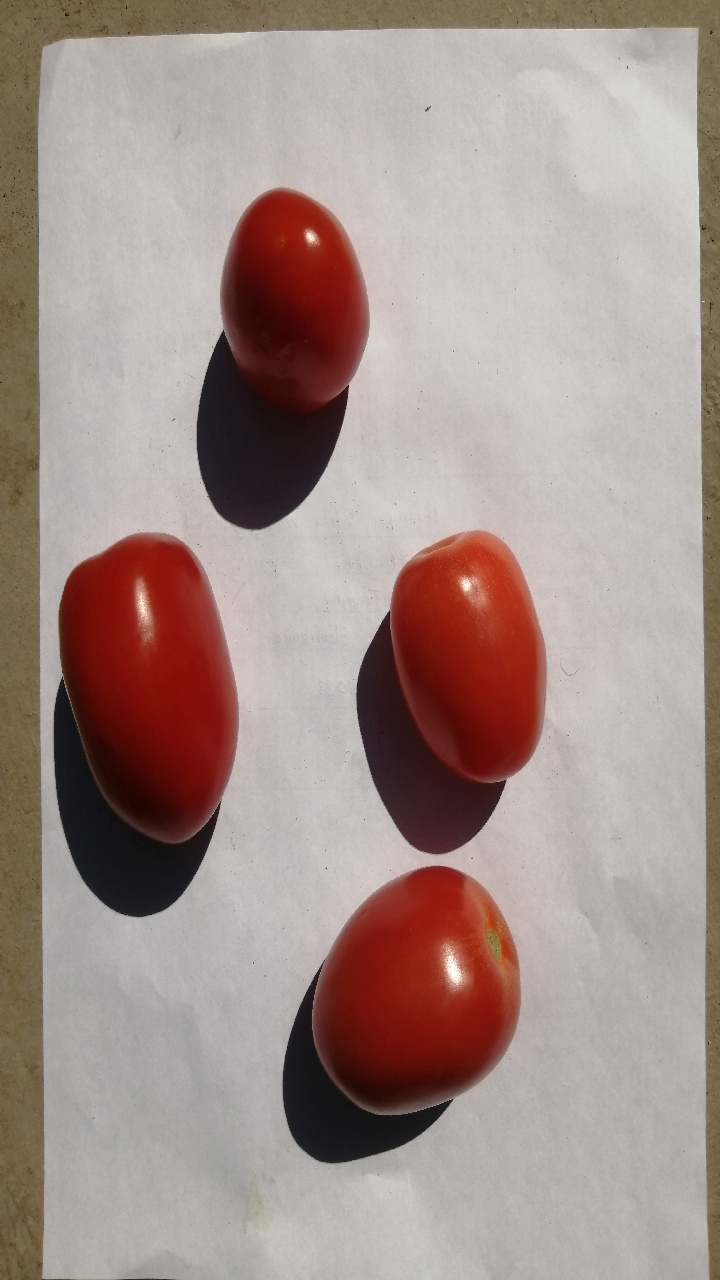tomateRojo: (288, 842, 543, 1134), (48, 528, 258, 852), (361, 503, 563, 799), (200, 171, 395, 434)
